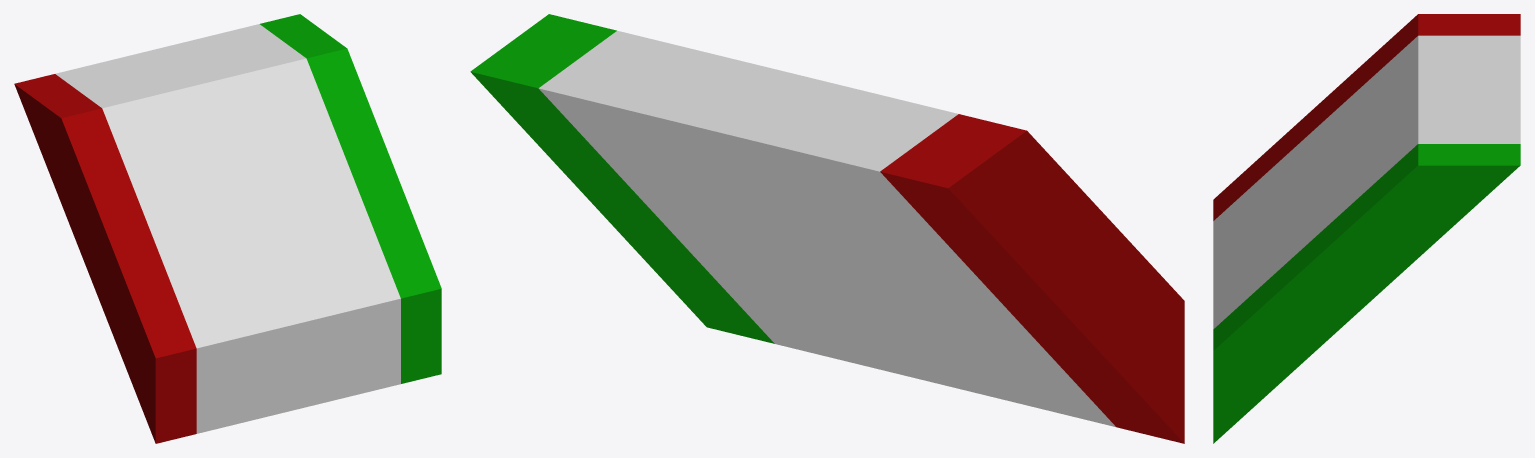
File: tile_slope_full_bottom.glb
The picture shows the model from 3 angles, left to right: view 1: azimuth 30°, elevation 25°; view 2: azimuth 150°, elevation 25°; view 3: azimuth 270°, elevation 25°; orthographic projection. The views are drawn at different scales.
Visible parts, largest first — view 1: merge; view 2: merge; view 3: merge.
Boxes of the visible parts, x1,y1,x2,y2 form: merge: (14,14,441,443); merge: (470,14,1184,443); merge: (1213,14,1520,443).
Bounding box in the file's own units: 0.7 × 0.6 × 0.6.
